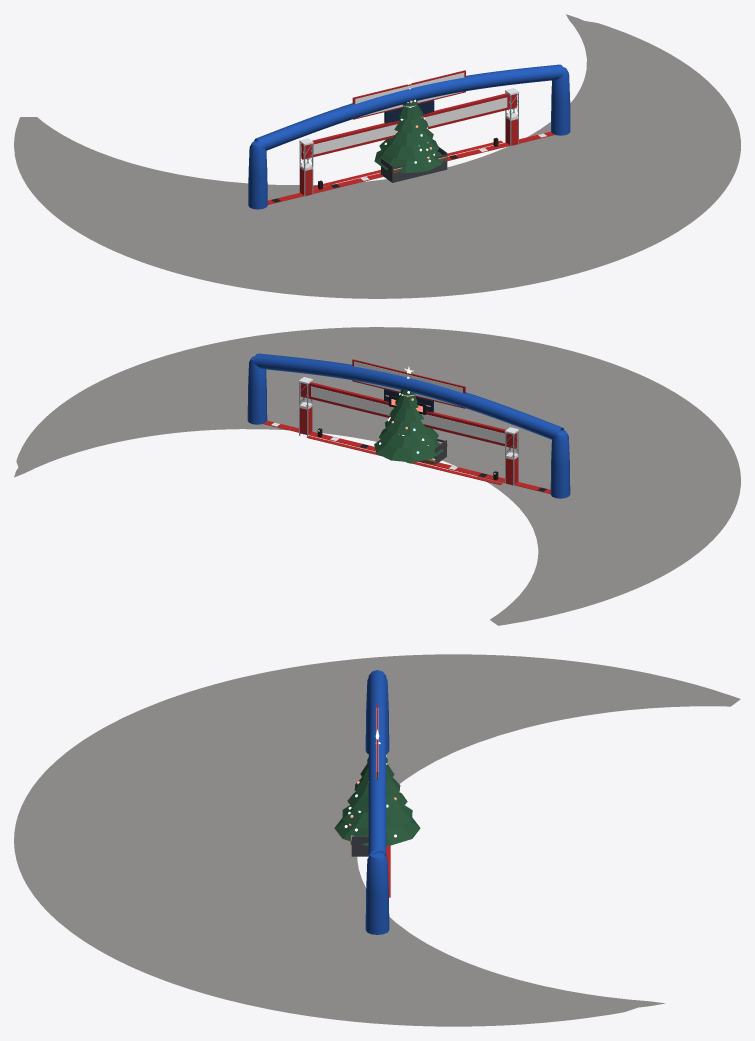
The model's file is SV_StartFinish.fbx.
3 views of the same model, one above another, from view 1: azimuth 30°, elevation 25°; view 2: azimuth 150°, elevation 25°; view 3: azimuth 270°, elevation 25° (orthographic). The views are drawn at different scales.
Visible parts, largest first — view 1: SV_UNQ_PlazaPaving_Stone, SVA_FinishArch_FabricBlue, SVA_XmasTree_Foliage, SVA_StartGate_PaintWhite, SVA_StartGate_FabricRed, SVA_StartGate_PaintRed, SVA_FinishArch_PaintRed, SVA_FinishArch_PaintWhite, SVA_Bleachers_Metal, SVA_StartGate_MetalLight, SVA_FinishArch_FabricRed; view 2: SV_UNQ_PlazaPaving_Stone, SVA_FinishArch_FabricBlue, SVA_XmasTree_Foliage, SVA_StartGate_PaintWhite, SVA_StartGate_FabricRed, SVA_StartGate_PaintRed, SVA_FinishArch_PaintRed, SVA_FinishArch_PaintWhite, SVA_StartGate_MetalLight, SVA_FinishArch_FabricRed; view 3: SV_UNQ_PlazaPaving_Stone, SVA_FinishArch_FabricBlue, SVA_XmasTree_Foliage.
Boxes of the visible parts, box(x1,y1,x2,y2) form: SV_UNQ_PlazaPaving_Stone: box(14, 14, 740, 298); SVA_FinishArch_FabricBlue: box(248, 64, 570, 209); SVA_XmasTree_Foliage: box(374, 100, 442, 173); SVA_StartGate_PaintWhite: box(300, 97, 518, 170); SVA_StartGate_FabricRed: box(301, 93, 517, 159); SVA_StartGate_PaintRed: box(300, 118, 518, 196); SVA_FinishArch_PaintRed: box(267, 131, 555, 204); SVA_FinishArch_PaintWhite: box(355, 72, 546, 180); SVA_Bleachers_Metal: box(381, 146, 447, 182); SVA_StartGate_MetalLight: box(299, 92, 518, 196); SVA_FinishArch_FabricRed: box(352, 70, 465, 119); SV_UNQ_PlazaPaving_Stone: box(14, 327, 740, 625); SVA_FinishArch_FabricBlue: box(247, 353, 570, 498); SVA_XmasTree_Foliage: box(374, 389, 443, 462); SVA_StartGate_PaintWhite: box(299, 386, 518, 459); SVA_StartGate_FabricRed: box(300, 382, 516, 448); SVA_StartGate_PaintRed: box(300, 407, 518, 485); SVA_FinishArch_PaintRed: box(263, 420, 550, 493); SVA_FinishArch_PaintWhite: box(271, 361, 462, 469); SVA_StartGate_MetalLight: box(299, 381, 518, 485); SVA_FinishArch_FabricRed: box(352, 359, 465, 408); SV_UNQ_PlazaPaving_Stone: box(14, 654, 740, 1026); SVA_FinishArch_FabricBlue: box(365, 670, 389, 934); SVA_XmasTree_Foliage: box(334, 757, 420, 845).
Bounding box in the file's own units: 371 × 53.21 × 306.
